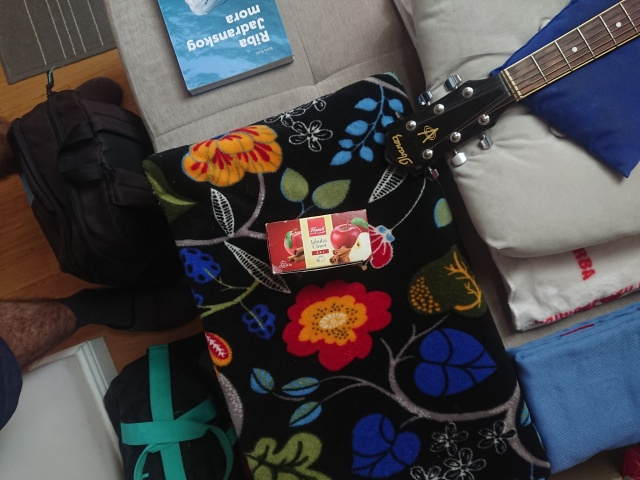Franck Apple Cinnamon Tea 60g: (263, 207, 374, 276)
